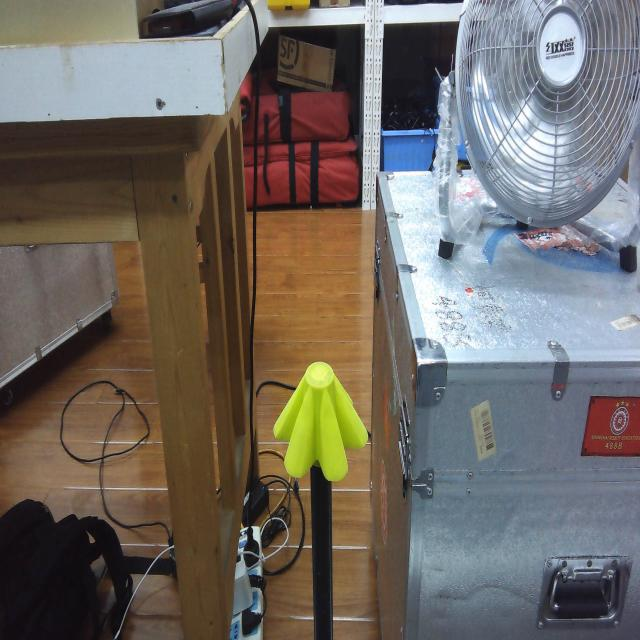Yellow-Stake-Head: (272, 361, 368, 483)
